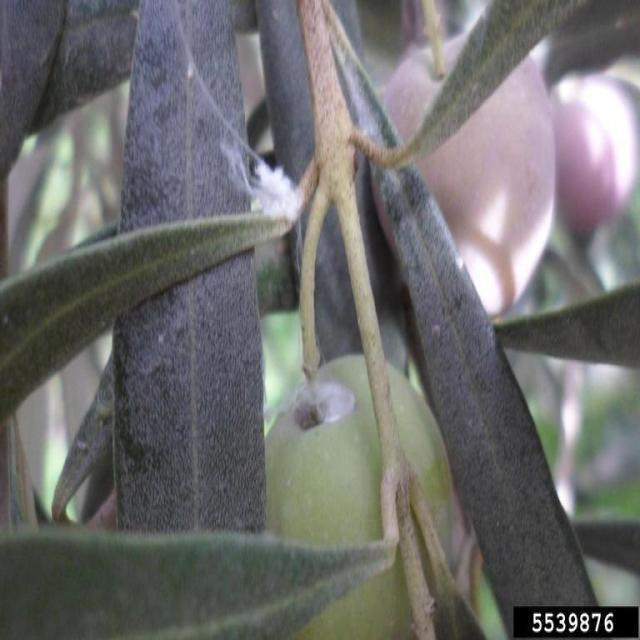Psyllid: (219, 115, 317, 248), (266, 355, 373, 456)
